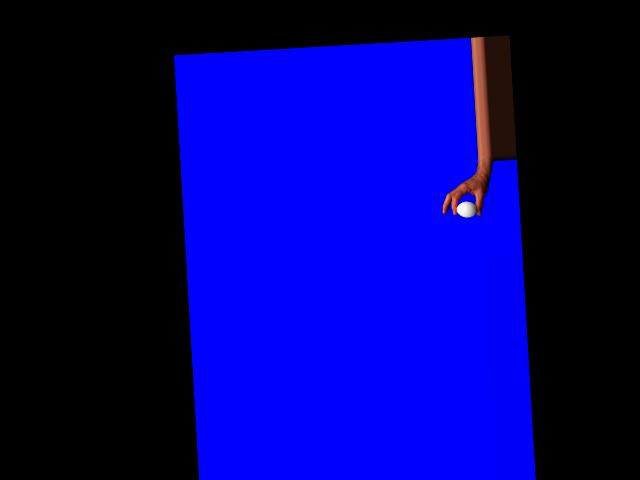egg: (456, 201, 477, 218)
